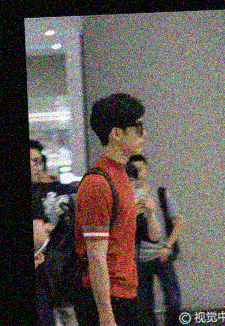without_mask: (118, 118, 149, 157), (129, 165, 149, 185), (31, 154, 44, 184)
